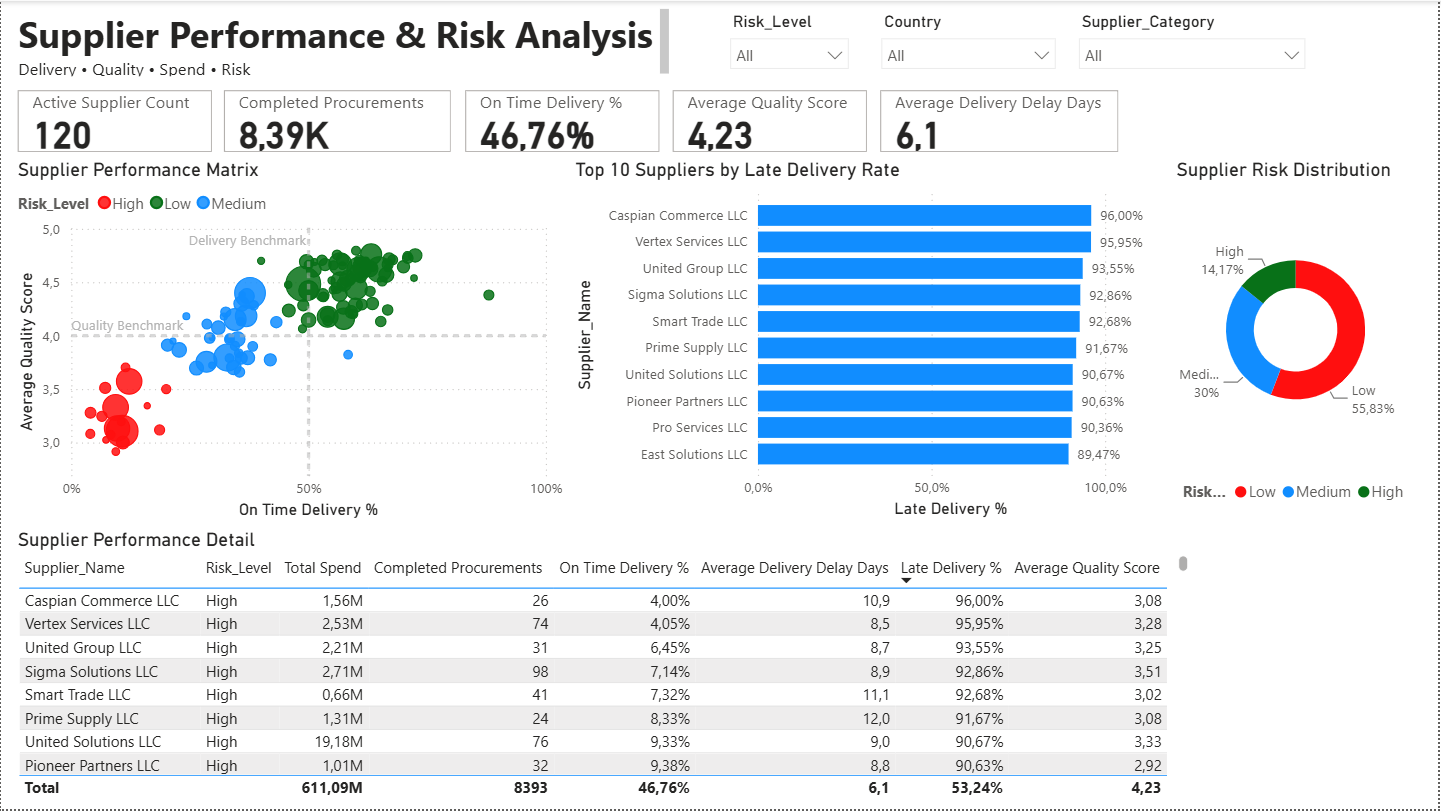

What the dashboard file says about the page in this screenshot:
{"tool":"powerbi","page":{"name":"Supplier Performance","canvas":[1280,720],"ordinal":1},"visuals":[{"type":"textbox","box":[9.6,2.7,590.1,70],"z":0},{"type":"cardVisual","fields":{"Data":["Fact_Procurement.Active Supplier Count"]},"box":[9.6,75,183.9,65],"z":1000},{"type":"cardVisual","fields":{"Data":["Fact_Procurement.Completed Procurements"]},"box":[194,75,212.7,65],"z":2000},{"type":"cardVisual","fields":{"Data":["Fact_Procurement.On Time Delivery %"]},"box":[408,75,183.9,65],"z":3000},{"type":"cardVisual","fields":{"Data":["Fact_Procurement.Average Quality Score"]},"box":[593,75,183.9,65],"z":4000},{"type":"cardVisual","fields":{"Data":["Fact_Procurement.Average Delivery Delay Days"]},"box":[778,75,222.3,65],"z":5000},{"type":"scatterChart","title":"Supplier Performance Matrix","fields":{"Category":["Dim_Supplier.Supplier_Name"],"Series":["Dim_Supplier.Risk_Level"],"Size":["Fact_Procurement.Total Spend"],"X":["Fact_Procurement.On Time Delivery %"],"Y":["Fact_Procurement.Average Quality Score"]},"box":[9.6,140,495.4,325.2],"z":6000},{"type":"clusteredBarChart","title":"Top 10 Suppliers by Late Delivery Rate","fields":{"Category":["Dim_Supplier.Supplier_Name"],"Y":["Fact_Procurement.Late Delivery %"]},"box":[506.3,140,536.5,325.2],"z":7000},{"type":"donutChart","title":"Supplier Risk Distribution","fields":{"Category":["Dim_Supplier.Risk_Level"],"Y":["Count(Dim_Supplier.Supplier_ID)"]},"box":[1041.5,140,222.3,315.6],"z":8000},{"type":"tableEx","title":"Supplier Performance Detail","fields":{"Values":["Dim_Supplier.Supplier_Name","Dim_Supplier.Risk_Level","Fact_Procurement.Total Spend","Fact_Procurement.Completed Procurements","Fact_Procurement.On Time Delivery %","Fact_Procurement.Average Delivery Delay Days","Fact_Procurement.Late Delivery %","Fact_Procurement.Average Quality Score"]},"box":[9.6,470,1052,245],"z":9000},{"type":"slicer","fields":{"Values":["Dim_Supplier.Risk_Level"]},"box":[639.5,4,126.2,71],"z":9001},{"type":"slicer","fields":{"Values":["Dim_Supplier.Country"]},"box":[773.9,4,175.6,71],"z":9002},{"type":"slicer","fields":{"Values":["Dim_Supplier.Supplier_Category"]},"box":[949.6,4,222.3,71],"z":9003}]}

Visuals, with their boxes in screenshot pixels (x1, y1, x2, y2), scaled from the page's 1280x720 canvas onto the 1441x811 screenshot:
textbox: (left=11, top=3, right=675, bottom=82)
cardVisual - Fact_Procurement.Active Supplier Count: (left=11, top=84, right=218, bottom=158)
cardVisual - Fact_Procurement.Completed Procurements: (left=218, top=84, right=458, bottom=158)
cardVisual - Fact_Procurement.On Time Delivery %: (left=459, top=84, right=666, bottom=158)
cardVisual - Fact_Procurement.Average Quality Score: (left=668, top=84, right=875, bottom=158)
cardVisual - Fact_Procurement.Average Delivery Delay Days: (left=876, top=84, right=1126, bottom=158)
"Supplier Performance Matrix" scatterChart: (left=11, top=158, right=569, bottom=524)
"Top 10 Suppliers by Late Delivery Rate" clusteredBarChart: (left=570, top=158, right=1174, bottom=524)
"Supplier Risk Distribution" donutChart: (left=1173, top=158, right=1423, bottom=513)
"Supplier Performance Detail" tableEx: (left=11, top=529, right=1195, bottom=805)
slicer - Dim_Supplier.Risk_Level: (left=720, top=5, right=862, bottom=84)
slicer - Dim_Supplier.Country: (left=871, top=5, right=1069, bottom=84)
slicer - Dim_Supplier.Supplier_Category: (left=1069, top=5, right=1319, bottom=84)
